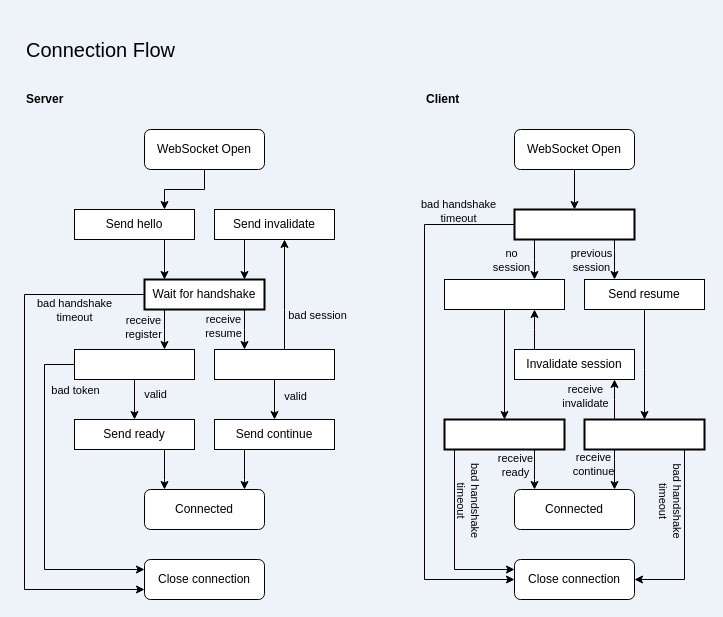
Some shapes in this 723 by 617 pixel diagram are drawn without their labels. Here are the shapes that lost their labels. From the top down, the centre of each, then its label:
the point at 574,224: Wait for hello
the point at 504,294: Send register
the point at 134,364: Validate register
the point at 274,364: Validate resume
the point at 504,434: Wait for ready
the point at 644,434: Wait for continue
